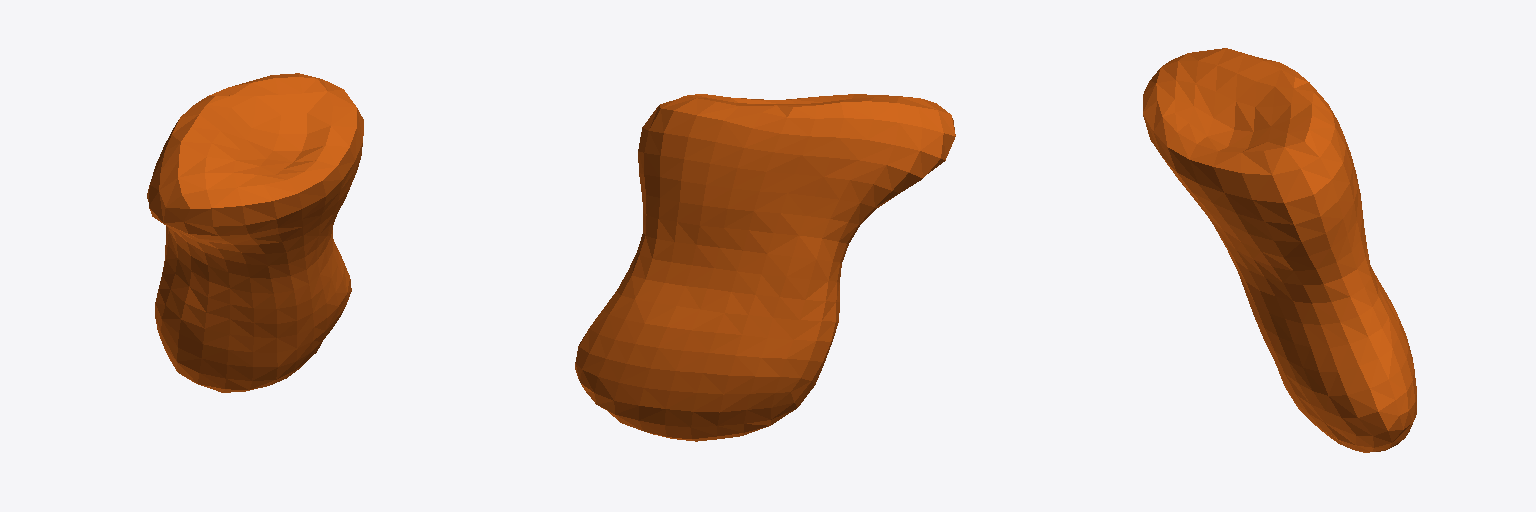
Rendered from DistalPhalanx_4.obj.
3 views of the same model, side by side, from view 1: azimuth 30°, elevation 25°; view 2: azimuth 150°, elevation 25°; view 3: azimuth 270°, elevation 25° (orthographic).
Visible parts, largest first — view 1: Object_0DistalPhalanx_4; view 2: Object_0DistalPhalanx_4; view 3: Object_0DistalPhalanx_4.
Part boxes in pixels (left/top/right/bottom): Object_0DistalPhalanx_4: left=147, top=73, right=363, bottom=392; Object_0DistalPhalanx_4: left=575, top=94, right=955, bottom=441; Object_0DistalPhalanx_4: left=1143, top=48, right=1416, bottom=452.
Size of the model in its own units: 12.52 by 13.95 by 10.64.